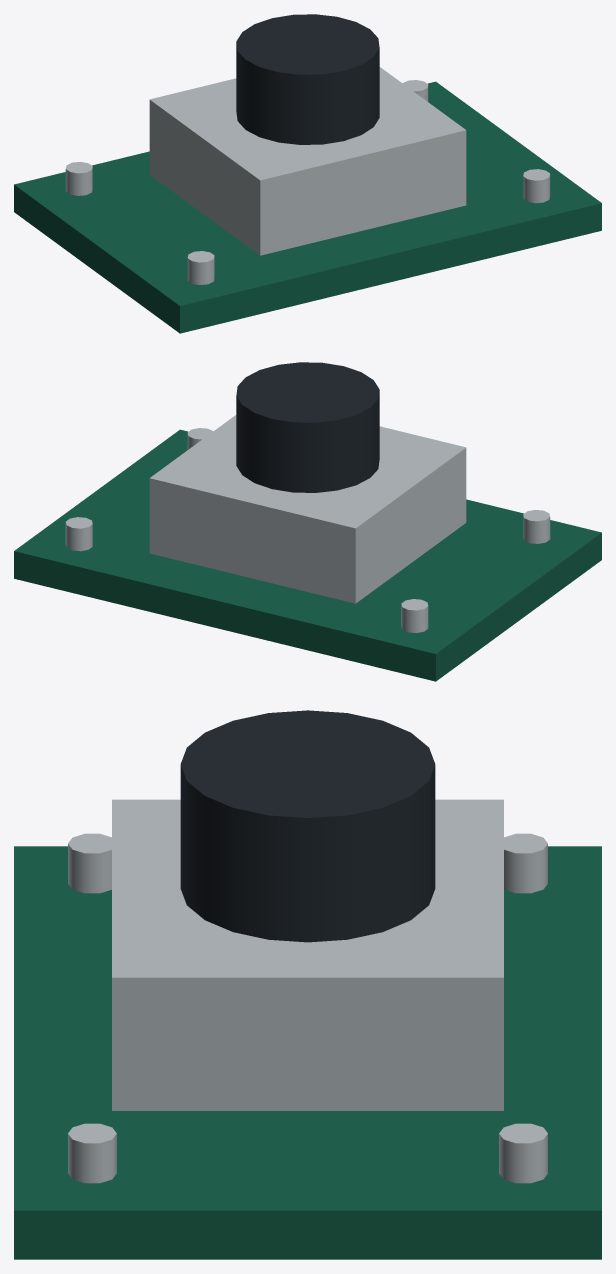
File: catalogue-switch.glb
The picture shows the model from 3 angles, top to bottom: view 1: azimuth 30°, elevation 25°; view 2: azimuth 150°, elevation 25°; view 3: azimuth 270°, elevation 25°; orthographic projection. The views are drawn at different scales.
Size of the model in its own units: 0.88 by 0.3525 by 0.6.
